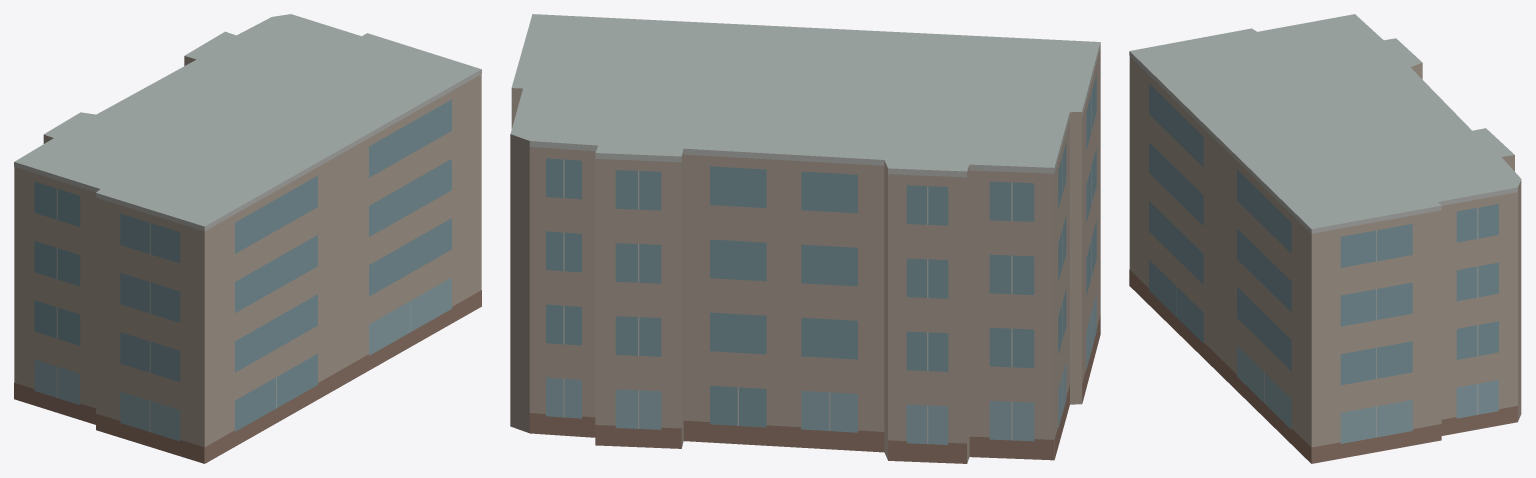
File: survey-upis-32466299.glb
The picture shows the model from 3 angles, left to right: view 1: azimuth 30°, elevation 25°; view 2: azimuth 150°, elevation 25°; view 3: azimuth 270°, elevation 25°; orthographic projection. The views are drawn at different scales.
Parts seen in each view (by area): view 1: survey-upis-32466299.tmp; view 2: survey-upis-32466299.tmp; view 3: survey-upis-32466299.tmp.
Part boxes in pixels (left/top/right/bottom): survey-upis-32466299.tmp: left=14, top=14, right=481, bottom=463; survey-upis-32466299.tmp: left=510, top=14, right=1100, bottom=463; survey-upis-32466299.tmp: left=1129, top=14, right=1521, bottom=463.
Size of the model in its own units: 23.99 by 12.2 by 18.47.
